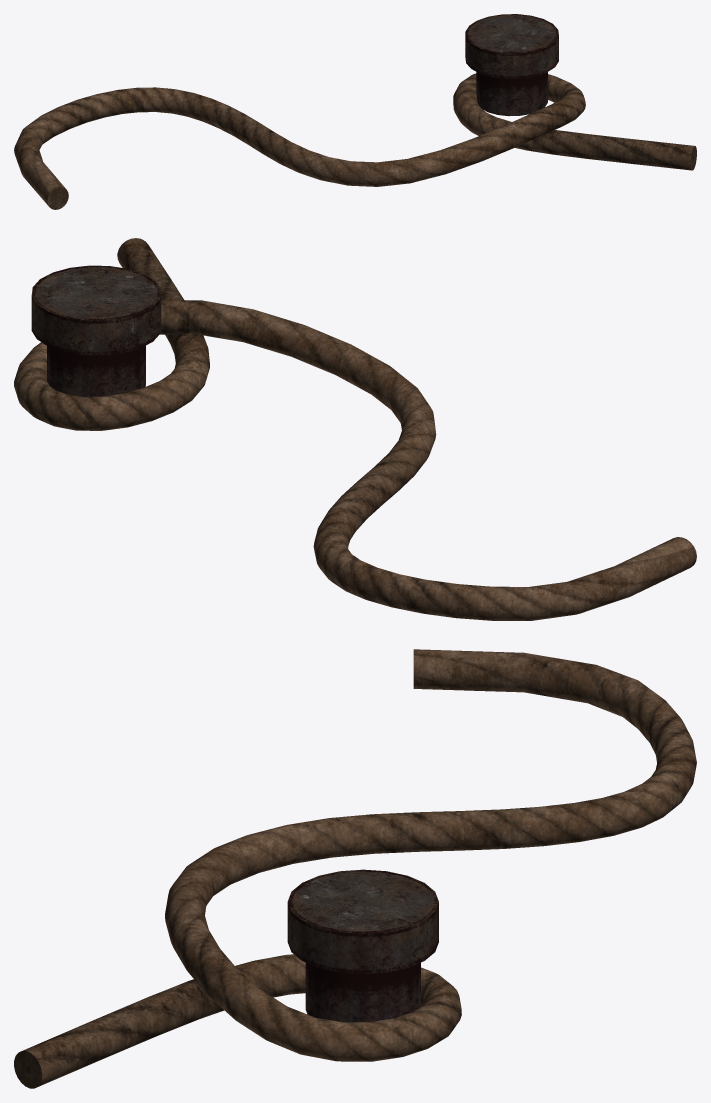
The picture shows the model from 3 angles, top to bottom: view 1: azimuth 30°, elevation 25°; view 2: azimuth 150°, elevation 25°; view 3: azimuth 270°, elevation 25°; orthographic projection. The views are drawn at different scales.
Visible parts, largest first — view 1: tubo_low, pau_low; view 2: tubo_low, pau_low; view 3: tubo_low, pau_low.
Boxes of the visible parts, left/top/right/bottom form: tubo_low: left=14, top=73, right=696, bottom=209; pau_low: left=465, top=14, right=558, bottom=116; tubo_low: left=14, top=238, right=696, bottom=620; pau_low: left=31, top=265, right=161, bottom=396; tubo_low: left=14, top=649, right=696, bottom=1088; pau_low: left=287, top=869, right=438, bottom=1022.
Size of the model in its own units: 20.69 by 2.98 by 14.27.
Materials: 2 (2 with a texture image).
